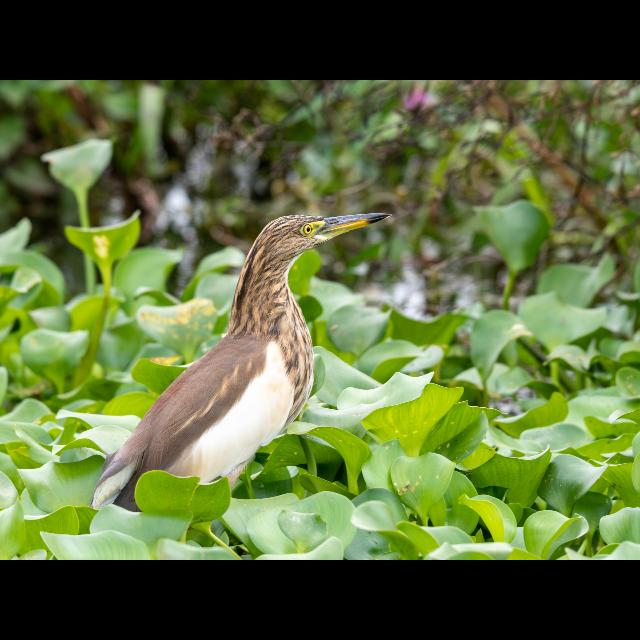heron: (112, 200, 408, 506)
